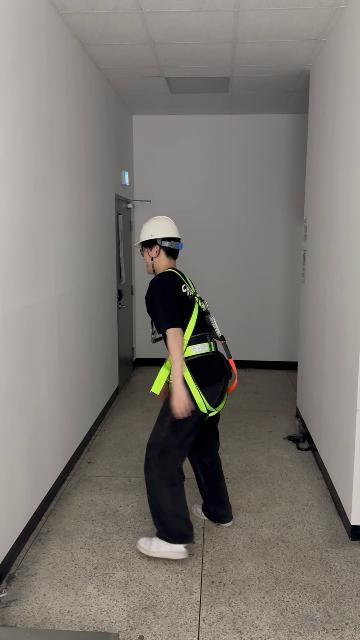helmet_worn: (133, 215, 182, 248)
shoe_not_worn: (136, 535, 189, 559), (191, 501, 233, 526)
vest_worn: (148, 276, 232, 414)
